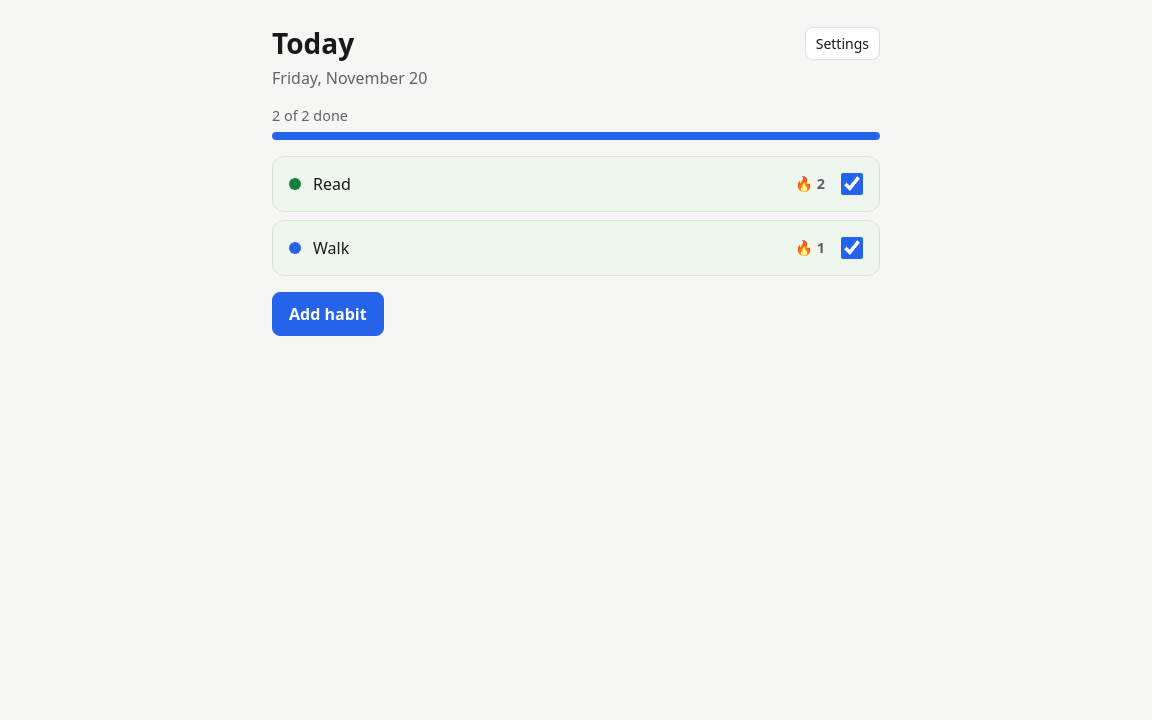
Test case: Settings › Clear all data › Cancel keeps everything
The image size is (1152, 720).
Step 1. Click the button "Settings" → point(842, 44), box [805,27,880,60]
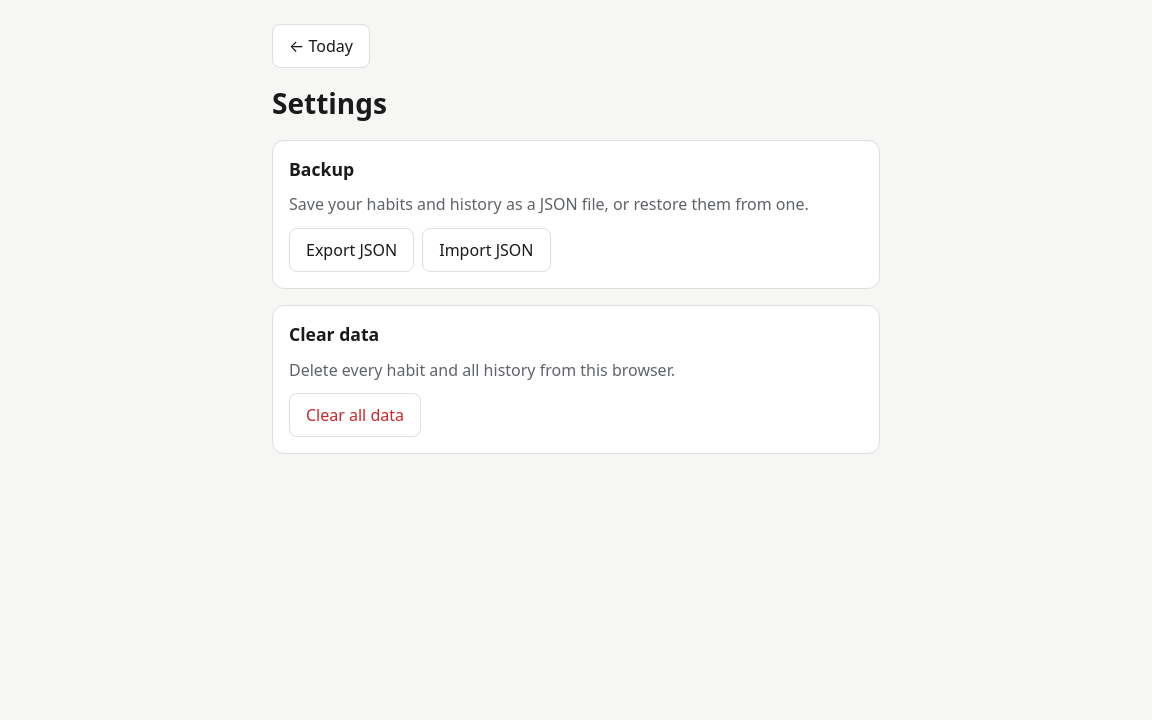
Step 2. Click the button "Clear all data" → point(355, 415), box [289,393,421,437]
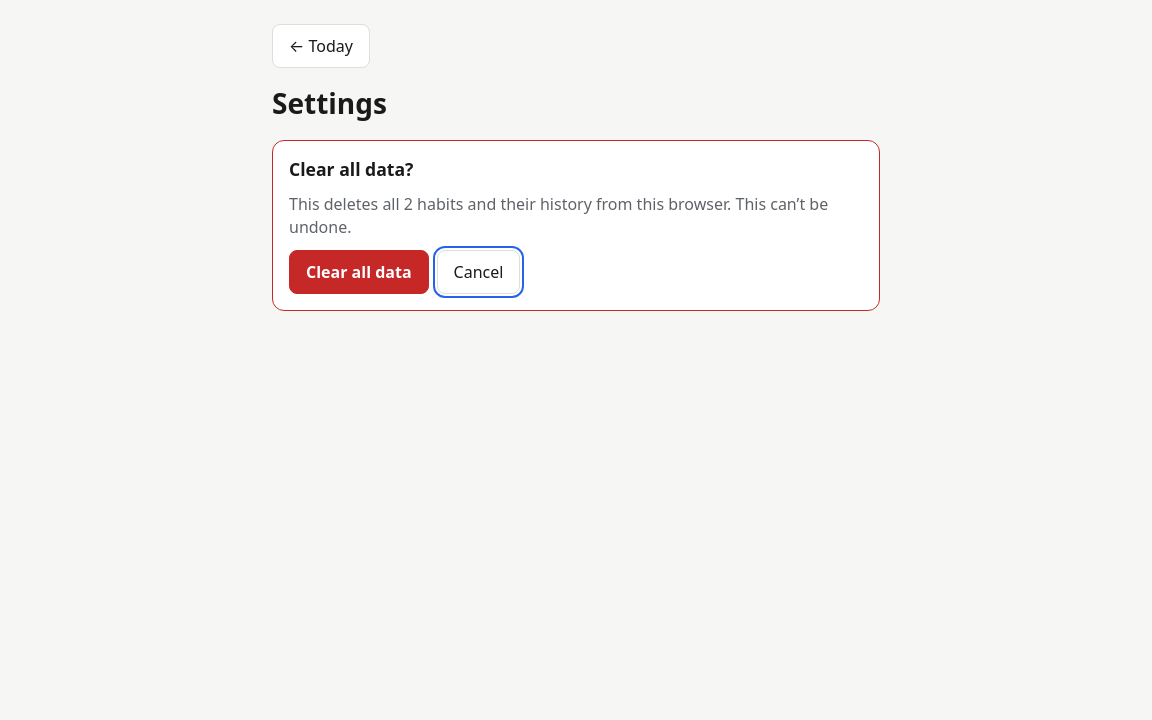
Step 3. Press Escape
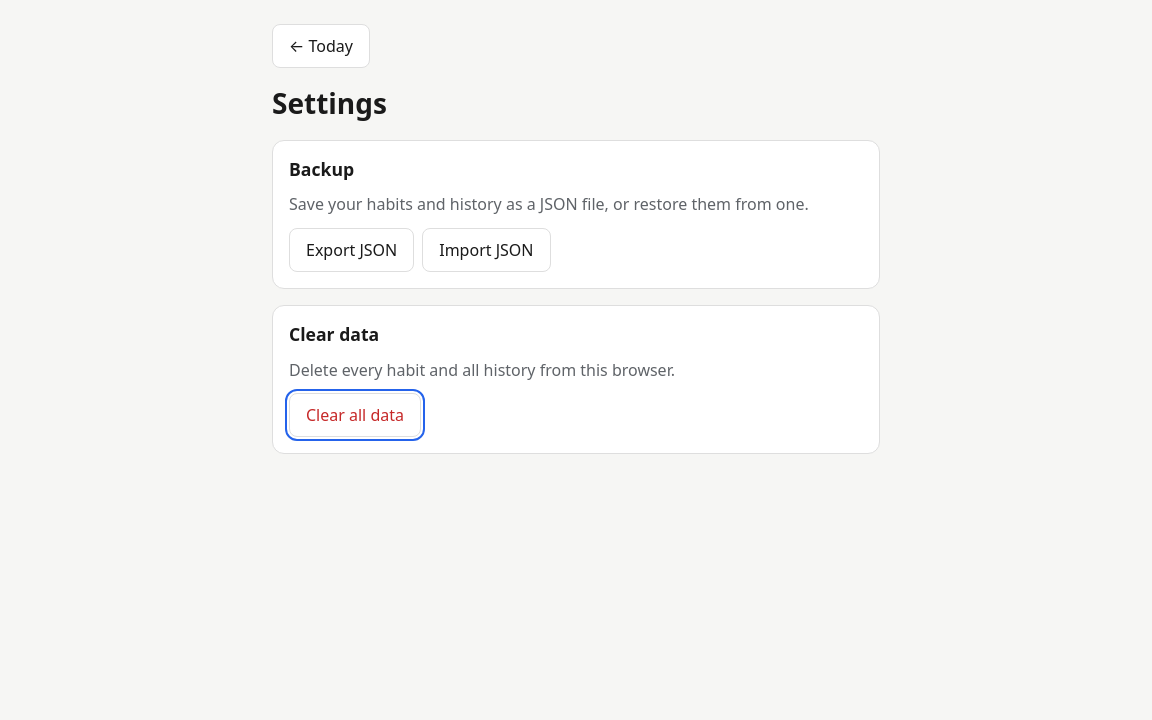
Now the dialog is gone
